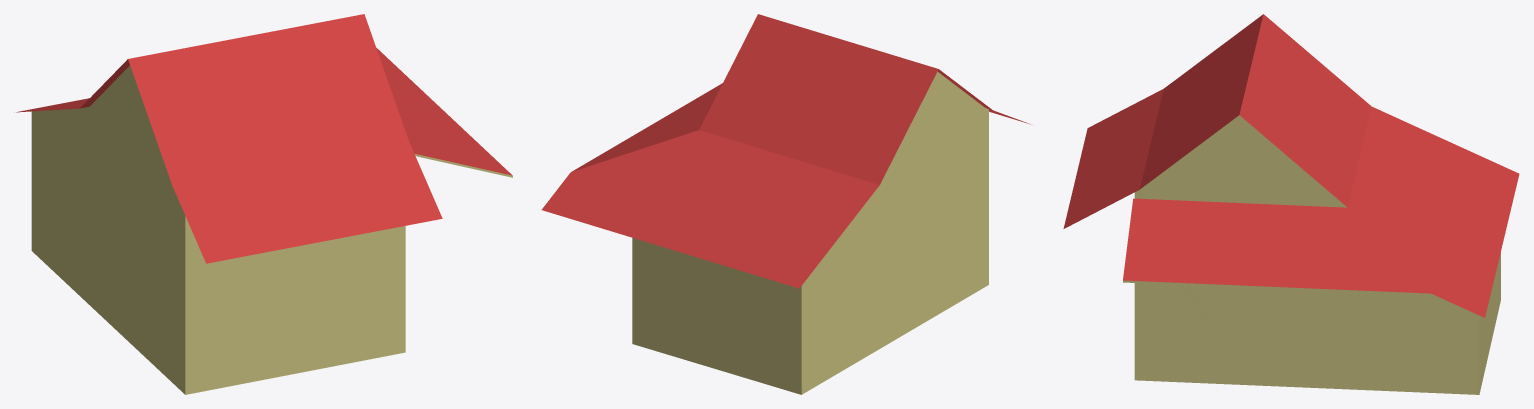
The picture shows the model from 3 angles, left to right: view 1: azimuth 30°, elevation 25°; view 2: azimuth 150°, elevation 25°; view 3: azimuth 270°, elevation 25°; orthographic projection. The views are drawn at different scales.
Size of the model in its own units: 17.13 by 20.28 by 13.35.
